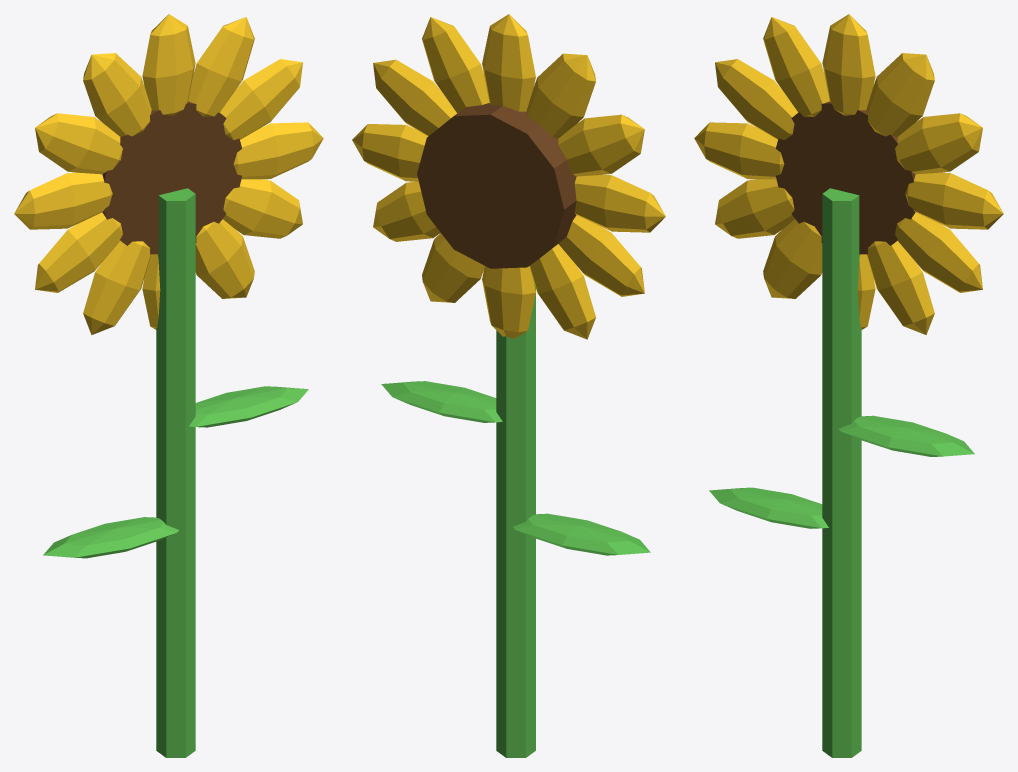
File: Sunflower.fbx
The picture shows the model from 3 angles, left to right: view 1: azimuth 30°, elevation 25°; view 2: azimuth 150°, elevation 25°; view 3: azimuth 330°, elevation 25°; orthographic projection.
Visible parts, largest first — view 1: Petal, Leaves, Seed; view 2: Petal, Leaves, Seed; view 3: Petal, Leaves, Seed.
Part boxes in pixels (left/top/right/bottom): Petal: left=14, top=14, right=323, bottom=334; Leaves: left=43, top=188, right=308, bottom=757; Seed: left=102, top=101, right=241, bottom=254; Petal: left=352, top=14, right=665, bottom=339; Leaves: left=381, top=284, right=650, bottom=757; Seed: left=417, top=103, right=576, bottom=268; Petal: left=694, top=14, right=1003, bottom=334; Leaves: left=709, top=188, right=974, bottom=757; Seed: left=776, top=101, right=915, bottom=254.
Bounding box in the file's own units: 1.28 × 2.89 × 0.285.
